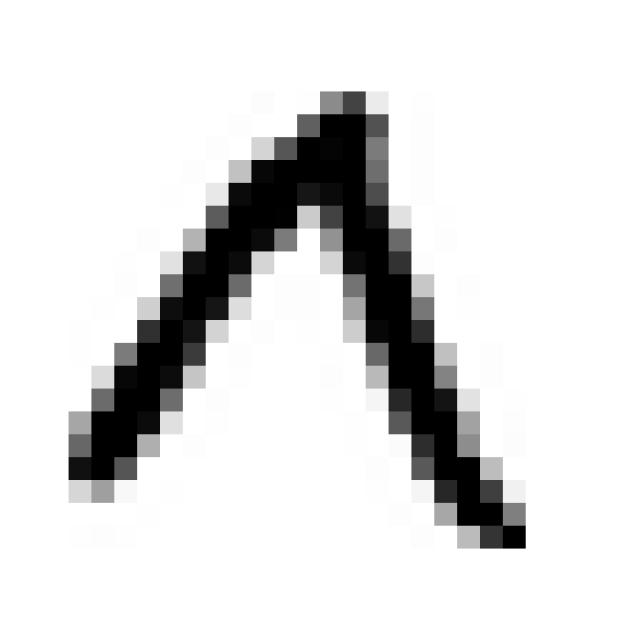8 -eight-: (41, 73, 543, 572)
